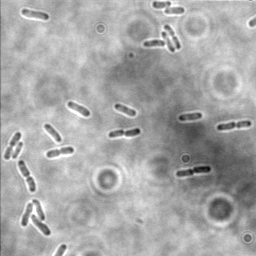Dividing: (16, 159, 37, 195), (3, 130, 23, 161), (174, 164, 212, 179), (162, 24, 182, 51), (214, 119, 253, 131), (44, 145, 76, 159), (107, 127, 142, 138), (19, 201, 33, 228)
Rod: (29, 213, 52, 238), (19, 7, 51, 22), (67, 100, 92, 119), (112, 101, 138, 118), (43, 123, 63, 144), (160, 31, 176, 54), (32, 199, 46, 222), (177, 111, 204, 122), (10, 140, 24, 160), (141, 38, 166, 49), (163, 5, 186, 16), (151, 1, 173, 10)
